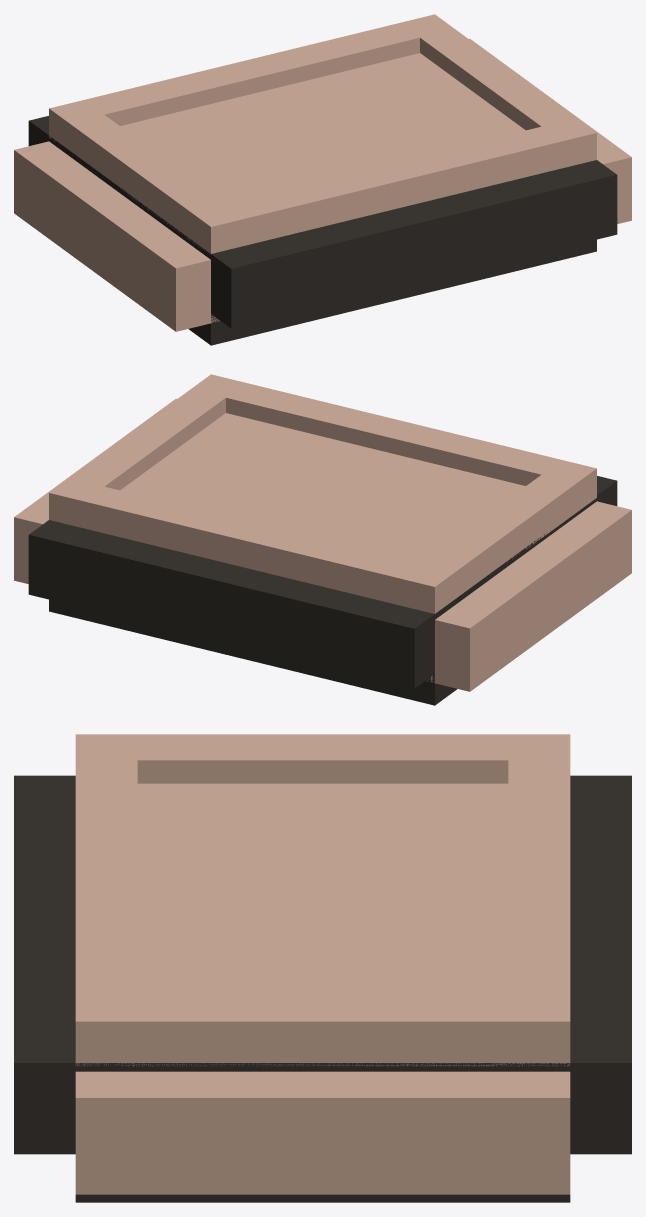
Rendered from CMU3DCMSoapDeluxeInheritedMiscCloud.glb.
The picture shows the model from 3 angles, top to bottom: view 1: azimuth 30°, elevation 25°; view 2: azimuth 150°, elevation 25°; view 3: azimuth 270°, elevation 25°; orthographic projection. The views are drawn at different scales.
Visible parts, largest first — view 1: upper rounded rectangle, recessed top, middle soap body, raised soap perimeter bottom, raised soap perimeter top, raised soap perimeter left, raised soap perimeter right, lower bevel foot; view 2: upper rounded rectangle, recessed top, middle soap body, raised soap perimeter top, raised soap perimeter bottom, raised soap perimeter left, raised soap perimeter right, lower bevel foot; view 3: recessed top, middle soap body, upper rounded rectangle, raised soap perimeter right, raised soap perimeter top, raised soap perimeter bottom, raised soap perimeter left, lower bevel foot.
Boxes of the visible parts, x1=… form: upper rounded rectangle: x1=28, y1=116, x2=617, y2=328; recessed top: x1=120, y1=53, x2=525, y2=203; middle soap body: x1=14, y1=38, x2=631, y2=331; raised soap perimeter bottom: x1=191, y1=118, x2=596, y2=255; raised soap perimeter top: x1=49, y1=14, x2=454, y2=149; raised soap perimeter left: x1=69, y1=114, x2=225, y2=240; raised soap perimeter right: x1=420, y1=29, x2=575, y2=130; lower bevel foot: x1=189, y1=239, x2=596, y2=345; upper rounded rectangle: x1=28, y1=476, x2=617, y2=688; recessed top: x1=120, y1=413, x2=525, y2=563; middle soap body: x1=14, y1=398, x2=631, y2=691; raised soap perimeter top: x1=49, y1=478, x2=454, y2=613; raised soap perimeter bottom: x1=191, y1=374, x2=596, y2=512; raised soap perimeter left: x1=420, y1=474, x2=576, y2=598; raised soap perimeter right: x1=70, y1=389, x2=225, y2=490; lower bevel foot: x1=49, y1=599, x2=456, y2=705; recessed top: x1=137, y1=783, x2=508, y2=995; middle soap body: x1=75, y1=1071, x2=570, y2=1194; upper rounded rectangle: x1=14, y1=775, x2=631, y2=1154; raised soap perimeter right: x1=137, y1=995, x2=508, y2=1066; raised soap perimeter top: x1=508, y1=734, x2=570, y2=1066; raised soap perimeter bottom: x1=75, y1=734, x2=137, y2=1066; raised soap perimeter left: x1=137, y1=734, x2=508, y2=783; lower bevel foot: x1=75, y1=1194, x2=570, y2=1202.
Size of the model in its own units: 0.4062 by 0.101 by 0.3125.
